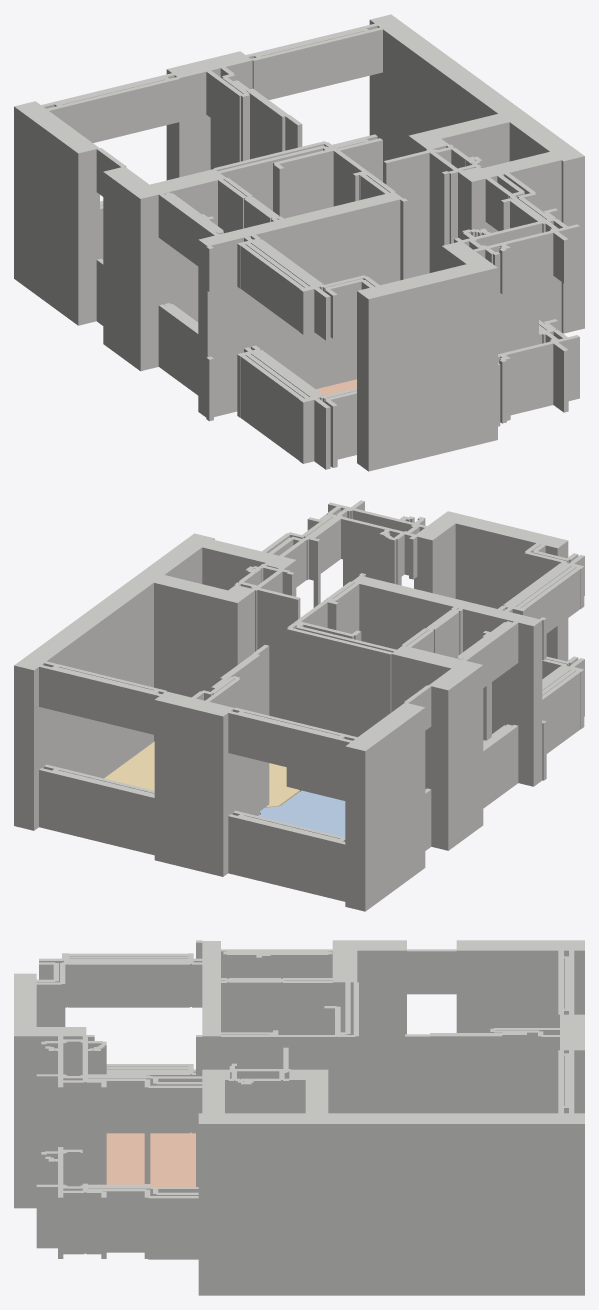
3 views of the same model, one above another, from view 1: azimuth 30°, elevation 25°; view 2: azimuth 150°, elevation 25°; view 3: azimuth 270°, elevation 25° (orthographic). The views are drawn at different scales.
Parts seen in each view (by area): view 1: walls; view 2: walls, room:bedroom:0, room:living:1; view 3: walls, room:kitchen:5.
Part boxes in pixels (x1,y1,x2,y2): walls: [14, 14, 584, 471]; walls: [14, 500, 584, 911]; room:bedroom:0: [258, 790, 345, 837]; room:living:1: [104, 741, 299, 807]; walls: [14, 940, 584, 1295]; room:kitchen:5: [106, 1132, 195, 1186].
Size of the model in its own units: 6.42 by 2.8 by 8.43.
